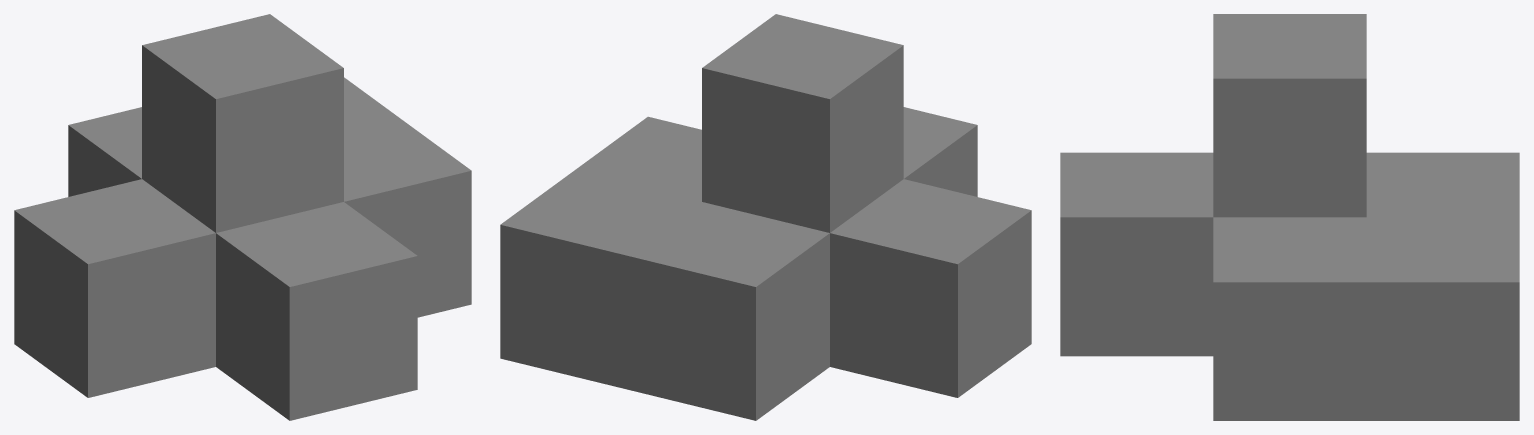
Rendered from Medieval Assets-321-Resource - Stone - Variant1.obj.
3 renders of one model, left to right at view 1: azimuth 30°, elevation 25°; view 2: azimuth 150°, elevation 25°; view 3: azimuth 270°, elevation 25°, orthographic. The views are drawn at different scales.
Parts seen in each view (by area): view 1: Resource - Stone - Variant1; view 2: Resource - Stone - Variant1; view 3: Resource - Stone - Variant1.
Part boxes in pixels (box(x1,y1,x2,y2)): Resource - Stone - Variant1: box(14, 14, 471, 420); Resource - Stone - Variant1: box(500, 14, 1031, 420); Resource - Stone - Variant1: box(1060, 14, 1519, 420).
Size of the model in its own units: 0.3 by 0.2 by 0.3.
Materials: 1 (1 with a texture image).
